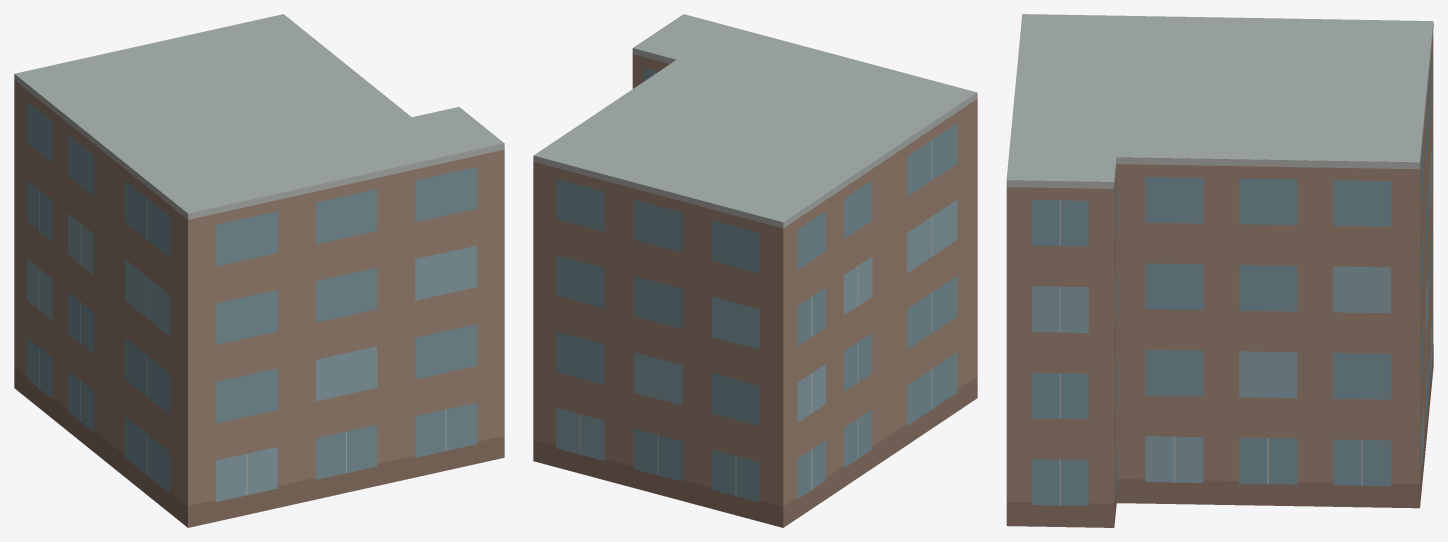
The model's file is residential-1b1535cc-5775-47a8-b5bc-d3b32f9d7ed8.glb.
3 views of the same model, side by side, from view 1: azimuth 30°, elevation 25°; view 2: azimuth 150°, elevation 25°; view 3: azimuth 270°, elevation 25° (orthographic). The views are drawn at different scales.
Parts seen in each view (by area): view 1: residential-1b1535cc-5775-47a8-b5bc-d3b32f9d7ed8.tmp; view 2: residential-1b1535cc-5775-47a8-b5bc-d3b32f9d7ed8.tmp; view 3: residential-1b1535cc-5775-47a8-b5bc-d3b32f9d7ed8.tmp.
Part boxes in pixels (bbox=[...]): residential-1b1535cc-5775-47a8-b5bc-d3b32f9d7ed8.tmp: bbox=[14, 14, 504, 527]; residential-1b1535cc-5775-47a8-b5bc-d3b32f9d7ed8.tmp: bbox=[533, 14, 977, 527]; residential-1b1535cc-5775-47a8-b5bc-d3b32f9d7ed8.tmp: bbox=[1006, 14, 1433, 527].
Size of the model in its own units: 12.72 by 12.2 by 13.66.
